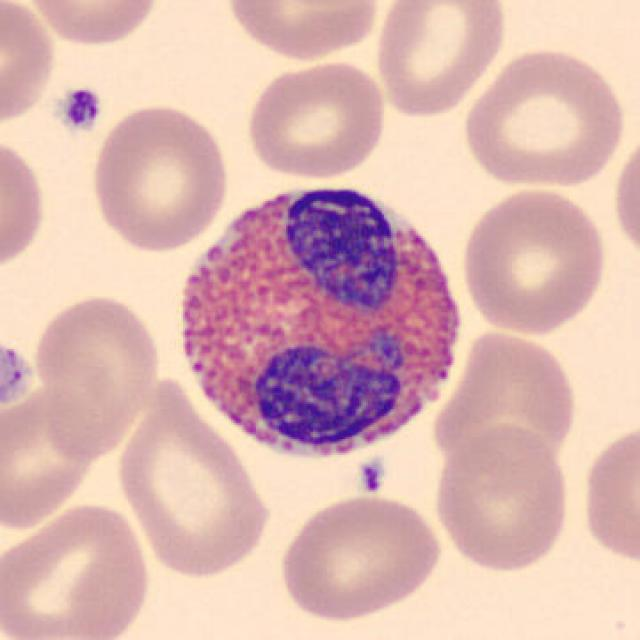Eosinophil: (160, 162, 475, 478)
Platelets: (57, 83, 105, 136), (0, 340, 37, 407), (356, 456, 388, 496)
RBC: (110, 377, 279, 584), (459, 42, 629, 192), (431, 324, 582, 482), (457, 183, 611, 337), (28, 289, 164, 459), (274, 490, 444, 624), (87, 100, 233, 254), (0, 497, 155, 640), (430, 423, 574, 575), (242, 56, 389, 182), (372, 0, 510, 120), (220, 0, 385, 63), (576, 418, 640, 571), (0, 0, 60, 130), (0, 132, 50, 279), (19, 0, 163, 49), (608, 123, 640, 270)
